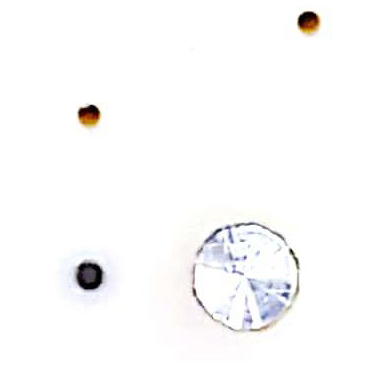abnormal: (159, 183, 325, 353)
cancer: (37, 228, 132, 321)
normal: (68, 94, 128, 142), (288, 6, 333, 46)
